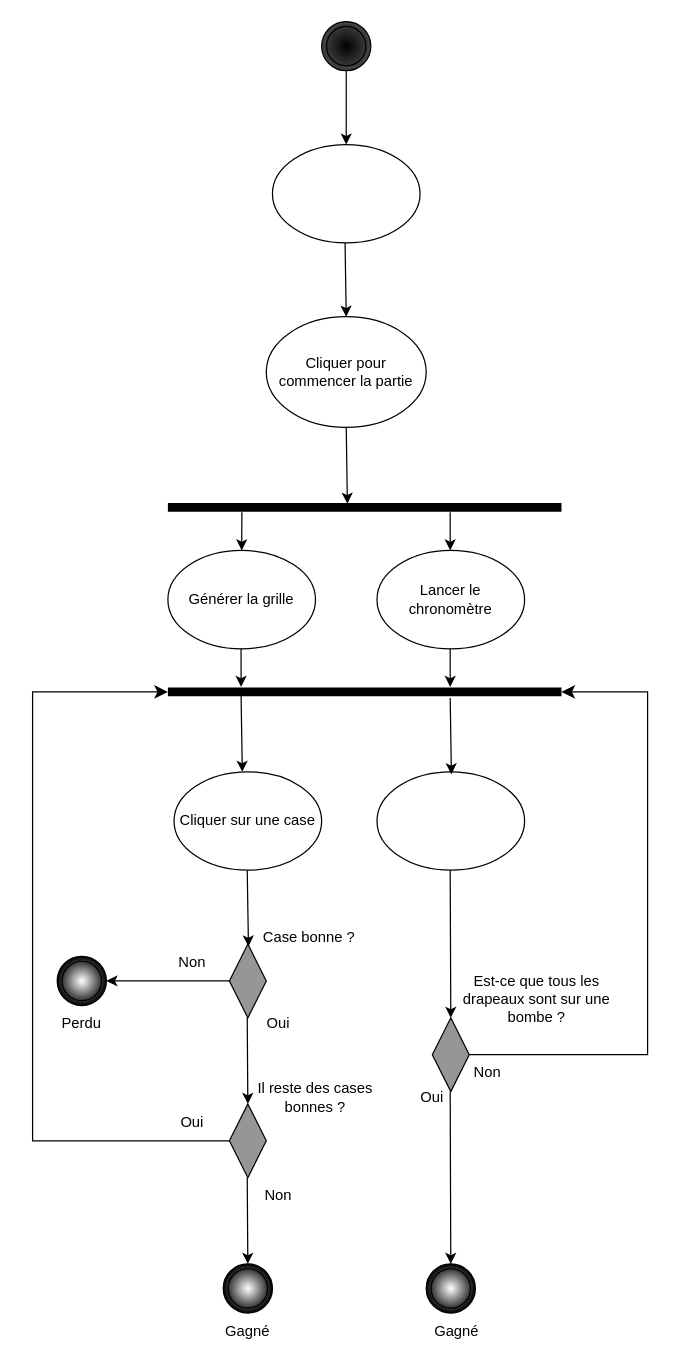
The diagram is 681 pixels wide and 1371 high, and some of its shapes have lost their labels. Each missing label, with the box of its shape:
Mettre un drapeau: (376, 771, 525, 870)
Sélectionner un niveau: (271, 143, 420, 243)
